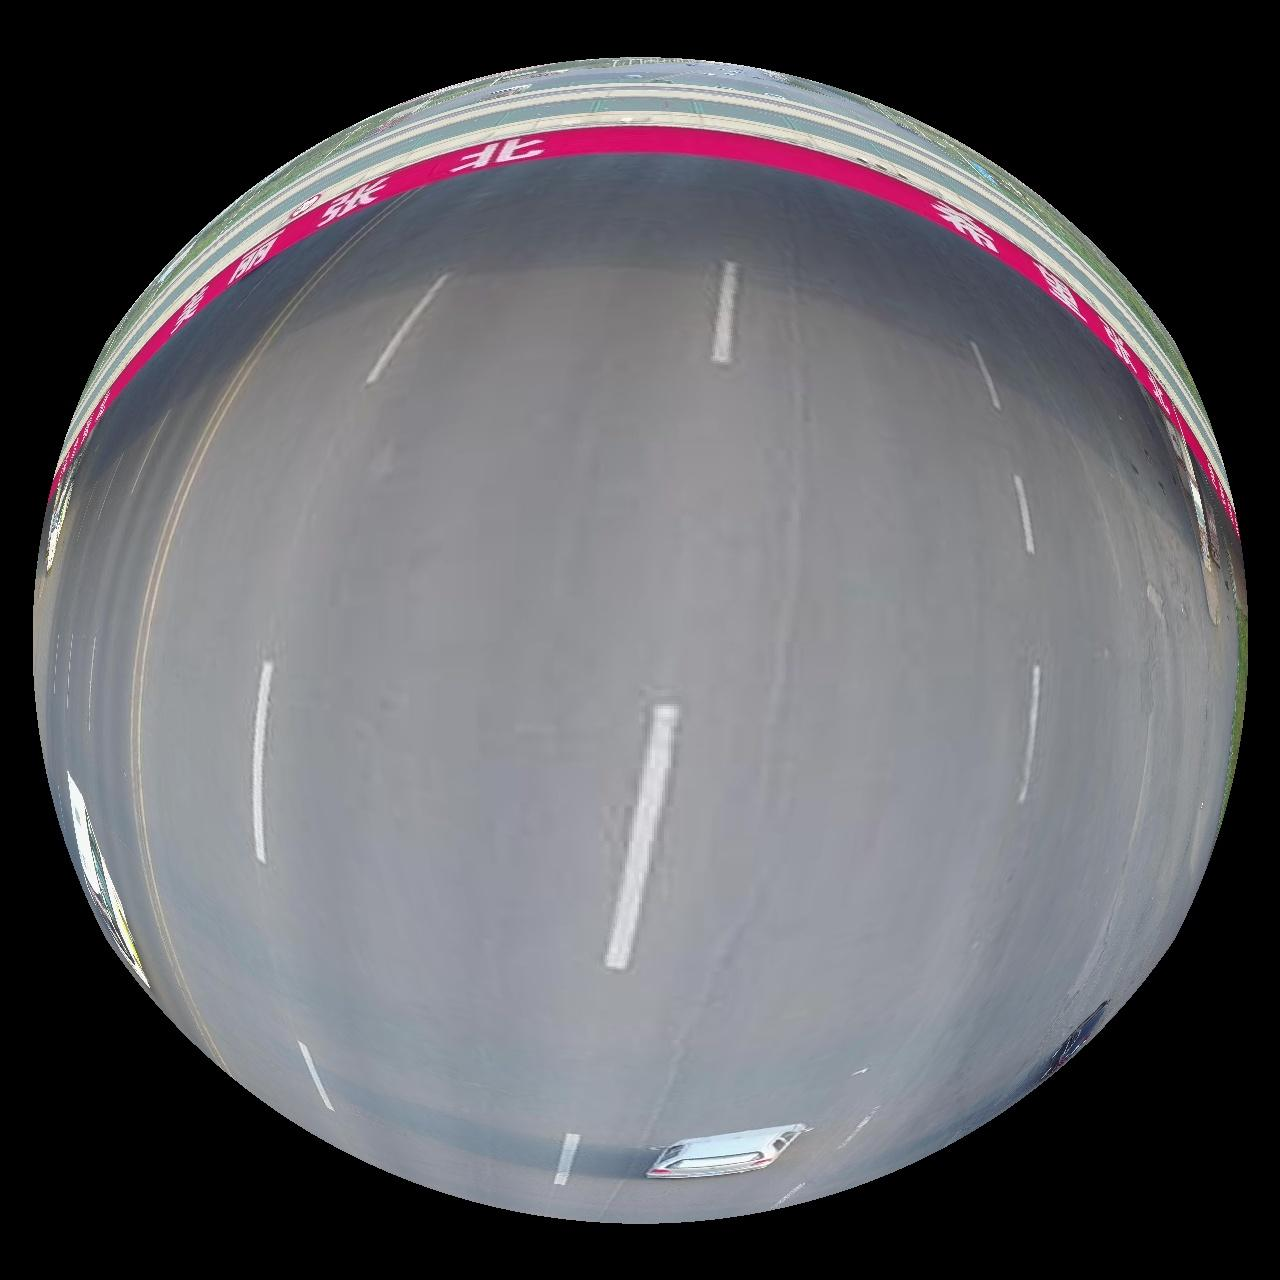cars: (66, 772, 148, 990), (647, 1126, 813, 1182)
